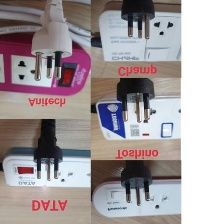three_eye_plug: (0, 25, 92, 107), (95, 1, 185, 65), (94, 89, 182, 142), (89, 174, 186, 220), (0, 144, 92, 188)
